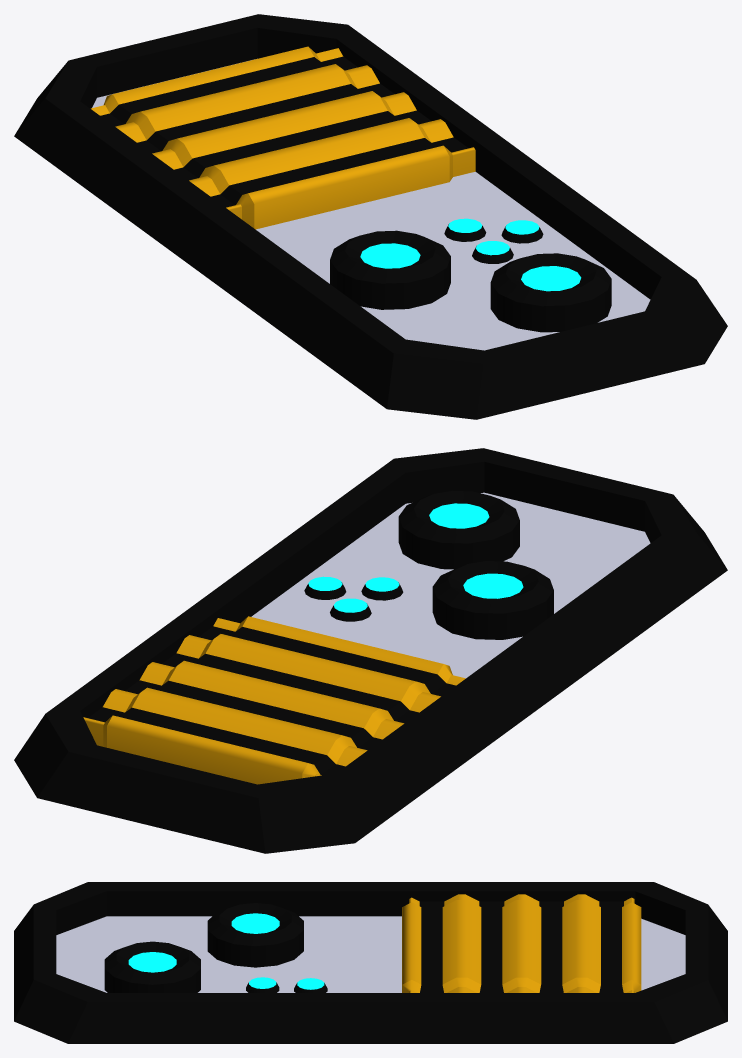
File: Button_Panel.fbx
3 renders of one model, top to bottom at view 1: azimuth 30°, elevation 25°; view 2: azimuth 150°, elevation 25°; view 3: azimuth 270°, elevation 25°, orthographic. The views are drawn at different scales.
Parts seen in each view (by area): view 1: Large_panel; view 2: Large_panel; view 3: Large_panel.
Part boxes in pixels (<box>): Large_panel: <box>14,14,727,419</box>; Large_panel: <box>14,448,727,853</box>; Large_panel: <box>14,882,727,1043</box>.
Size of the model in its own units: 26.34 by 3.4 by 58.76.
